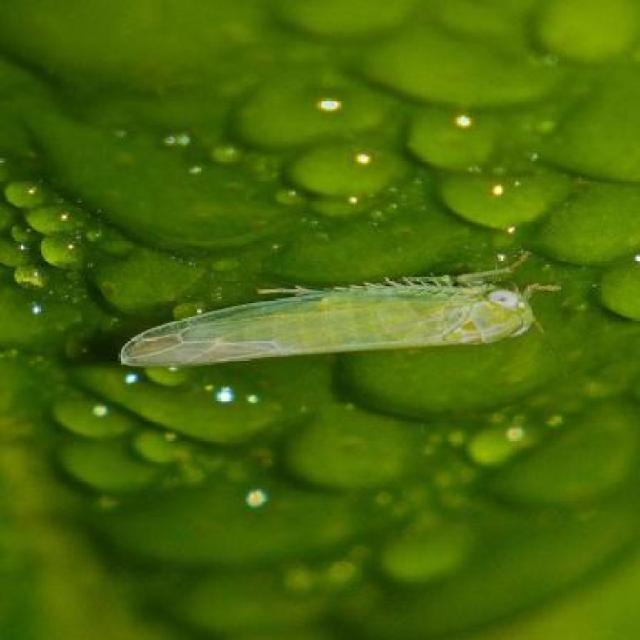green-leafhopper: (116, 271, 550, 374)
